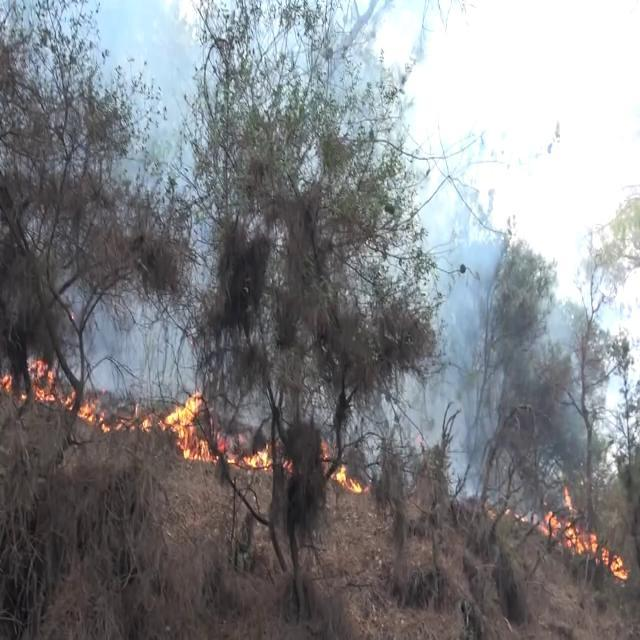Fire: (499, 421, 638, 574), (7, 340, 156, 432), (330, 413, 386, 517), (161, 394, 213, 466), (246, 450, 270, 470)
Smoke: (46, 88, 252, 364), (374, 148, 510, 392), (247, 292, 320, 417)
